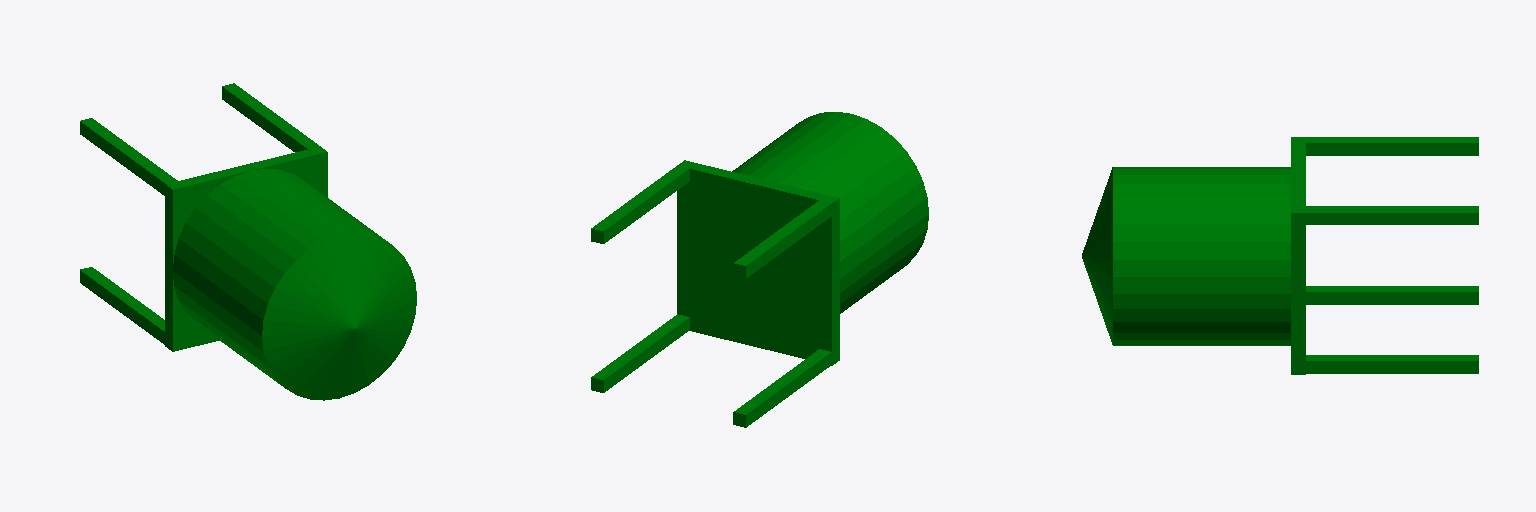
The model's file is deposito.obj.
3 views of the same model, side by side, from view 1: azimuth 30°, elevation 25°; view 2: azimuth 150°, elevation 25°; view 3: azimuth 270°, elevation 25° (orthographic).
Visible parts, largest first — view 1: Cylinder, Cube, Cube.004, Cube.003, Cube.001; view 2: Cube, Cylinder, Cube.004, Cube.003, Cube.002, Cube.001; view 3: Cylinder, Cube, Cube.003, Cube.004, Cube.002, Cube.001.
Boxes of the visible parts, <box> form: Cylinder: <box>173,169,416,400</box>; Cube: <box>165,149,327,351</box>; Cube.004: <box>80,118,181,195</box>; Cube.003: <box>222,83,322,151</box>; Cube.001: <box>80,267,164,344</box>; Cube: <box>677,160,839,365</box>; Cylinder: <box>732,112,928,313</box>; Cube.004: <box>733,198,834,278</box>; Cube.003: <box>591,163,692,243</box>; Cube.002: <box>591,314,689,392</box>; Cube.001: <box>733,349,831,427</box>; Cylinder: <box>1082,167,1290,345</box>; Cube: <box>1291,137,1305,374</box>; Cube.003: <box>1299,206,1478,224</box>; Cube.004: <box>1299,137,1478,155</box>; Cube.002: <box>1306,355,1478,373</box>; Cube.001: <box>1306,286,1478,304</box>.
Size of the model in its own units: 2 by 2 by 4.43.